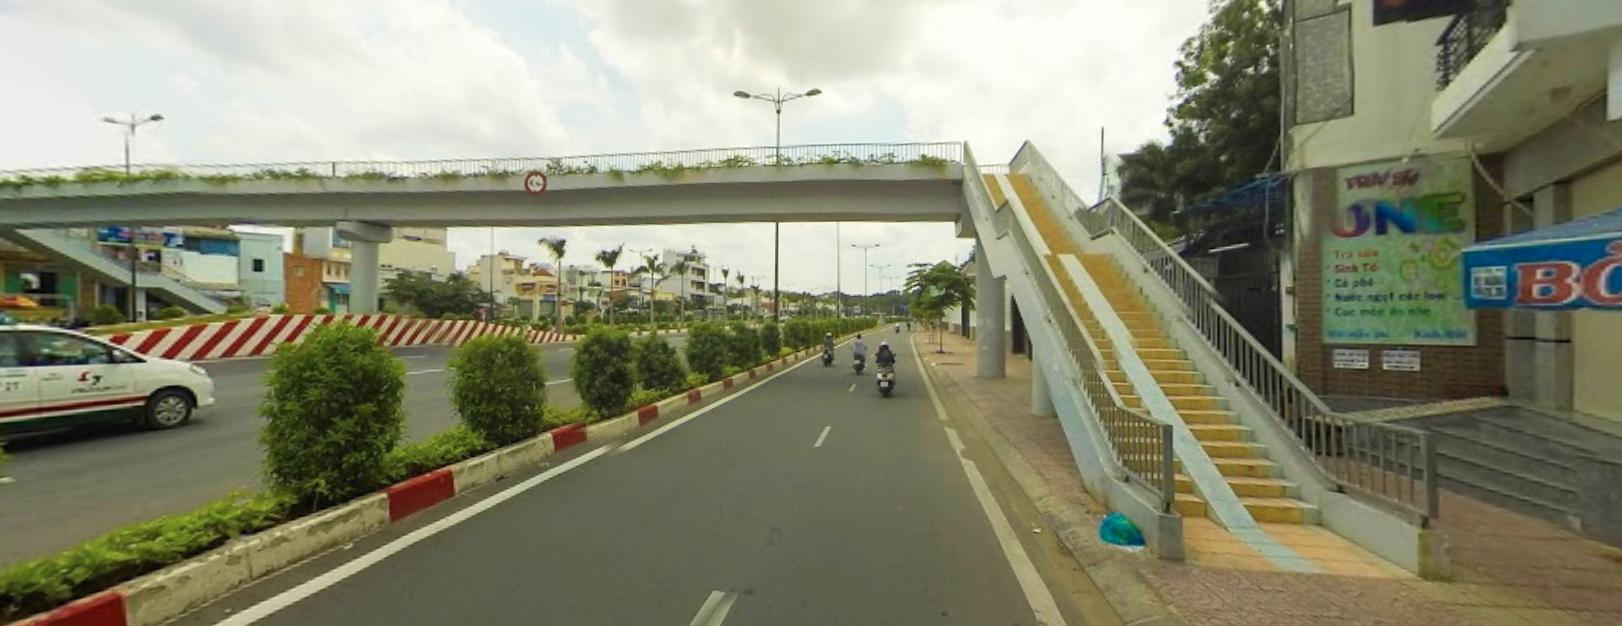Cam con lai: (523, 168, 547, 195)
